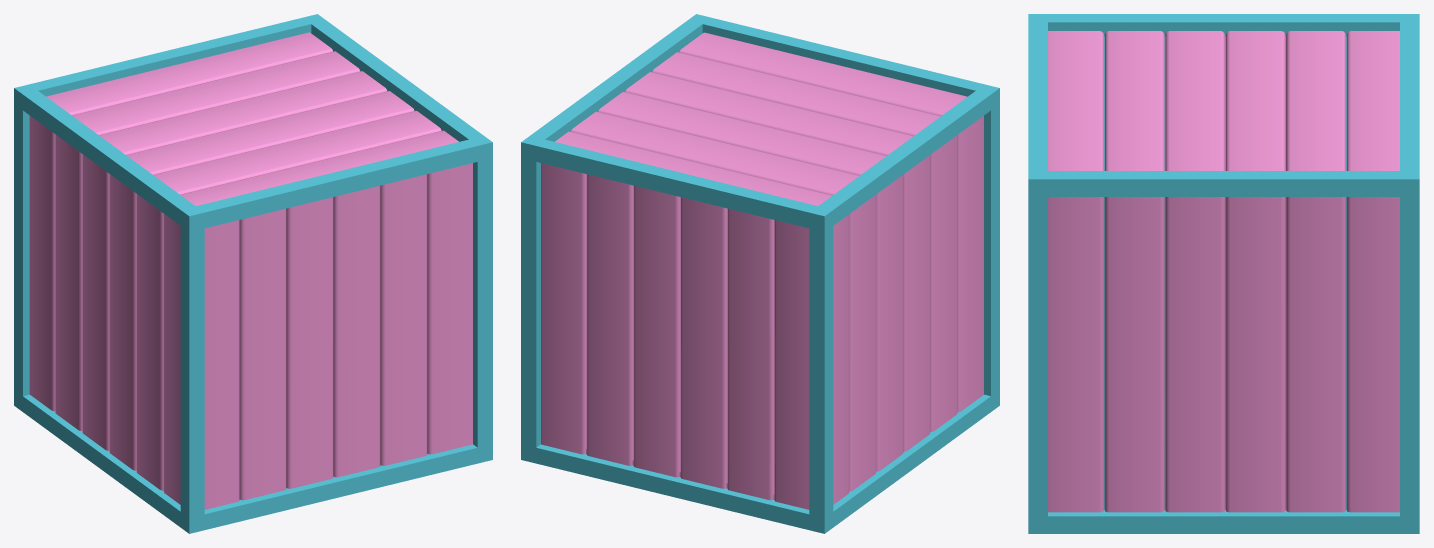
Rendered from crate_frame_high.fbx.
3 views of the same model, side by side, from view 1: azimuth 30°, elevation 25°; view 2: azimuth 150°, elevation 25°; view 3: azimuth 270°, elevation 25° (orthographic). The views are drawn at different scales.
Visible parts, largest first — view 1: planks_3, crate_frame, planks_1, planks_2; view 2: planks_3, crate_frame, planks_1, planks_2; view 3: planks_1, planks_2, crate_frame.
Boxes of the visible parts, x1,y1,x2,y2 form: planks_3: [204, 163, 472, 509]; crate_frame: [14, 14, 492, 533]; planks_1: [29, 115, 180, 504]; planks_2: [46, 32, 458, 205]; planks_3: [541, 163, 809, 509]; crate_frame: [521, 14, 999, 533]; planks_1: [833, 116, 983, 504]; planks_2: [555, 32, 967, 499]; planks_1: [1048, 197, 1399, 512]; planks_2: [1048, 31, 1399, 170]; crate_frame: [1028, 14, 1419, 533].
Size of the model in its own units: 242 by 242 by 242.
